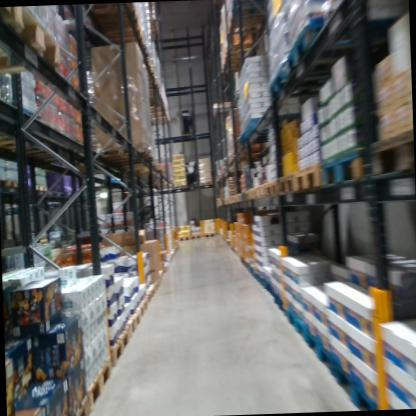pallet: (282, 9, 394, 83), (264, 53, 394, 108), (0, 7, 75, 80), (356, 123, 415, 196), (319, 145, 374, 189), (91, 140, 154, 172), (78, 358, 114, 411), (223, 4, 271, 43), (294, 148, 330, 197), (95, 327, 131, 368), (60, 392, 93, 416), (277, 168, 301, 199), (121, 308, 142, 335), (0, 171, 24, 194), (262, 176, 282, 200), (131, 297, 148, 318), (195, 178, 214, 194), (171, 181, 186, 197), (33, 180, 49, 195), (177, 232, 192, 243), (202, 231, 215, 241), (191, 232, 203, 241)
